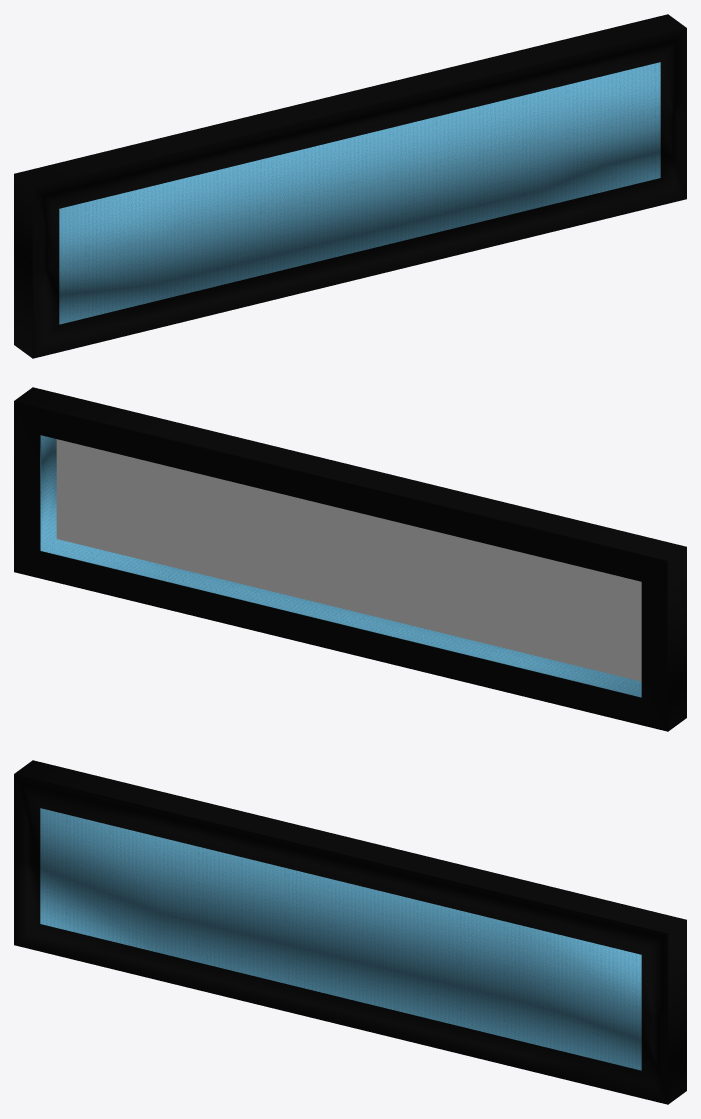
File: Pool.fbx
The picture shows the model from 3 angles, top to bottom: view 1: azimuth 30°, elevation 25°; view 2: azimuth 150°, elevation 25°; view 3: azimuth 330°, elevation 25°; orthographic projection.
Parts seen in each view (by area): view 1: Pool_SM.001; view 2: Pool_SM.001, Animated_Water; view 3: Pool_SM.001.
Boxes of the visible parts, x1=… form: Pool_SM.001: x1=14, y1=14, x2=686, y2=358; Pool_SM.001: x1=14, y1=387, x2=686, y2=731; Animated_Water: x1=56, y1=439, x2=641, y2=681; Pool_SM.001: x1=14, y1=760, x2=686, y2=1104.
Size of the model in its own units: 1219 by 305 by 60.96.
3 materials, 2 textured.
